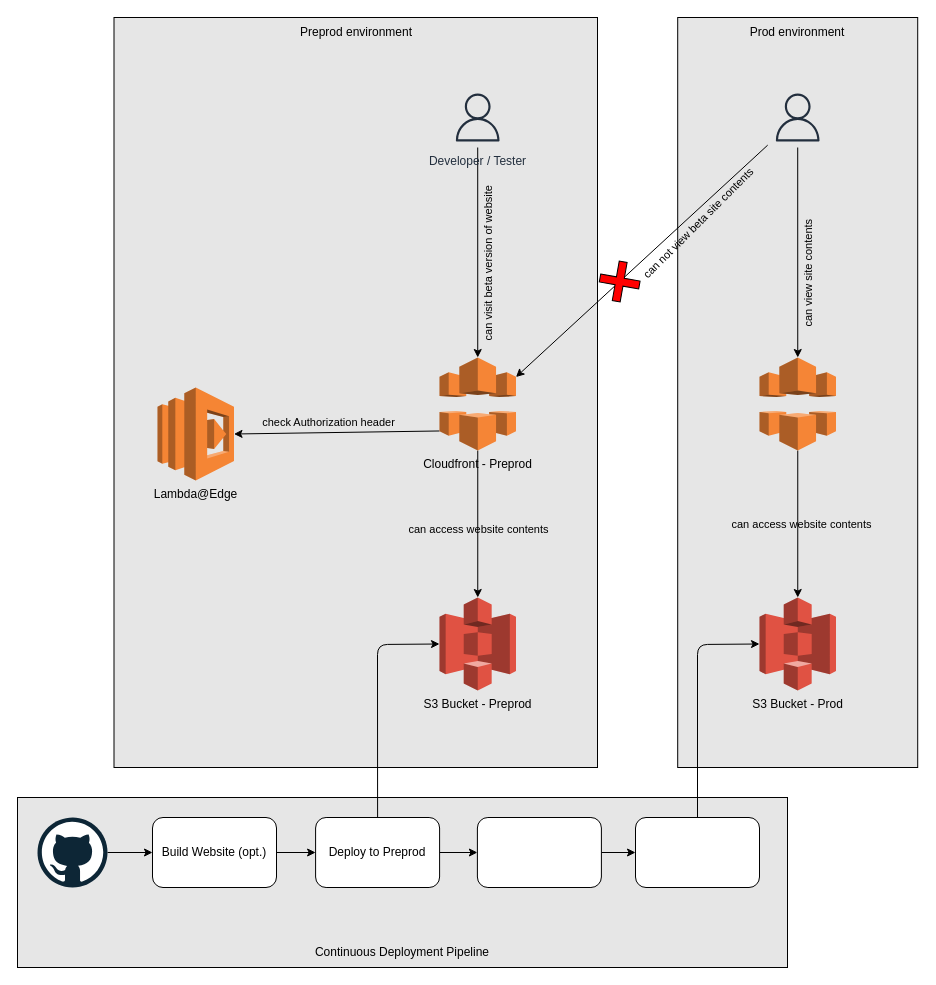
The diagram is 936 pixels wide and 985 high, and some of its shapes have lost their labels. Each missing label, with the centre of its shape:
"Cloudfront - Prod" goes at (x=797, y=403).
"Deploy to Prod" goes at (x=697, y=852).
"Enduser" goes at (x=797, y=117).
"Wait for manual approval" goes at (x=538, y=852).
